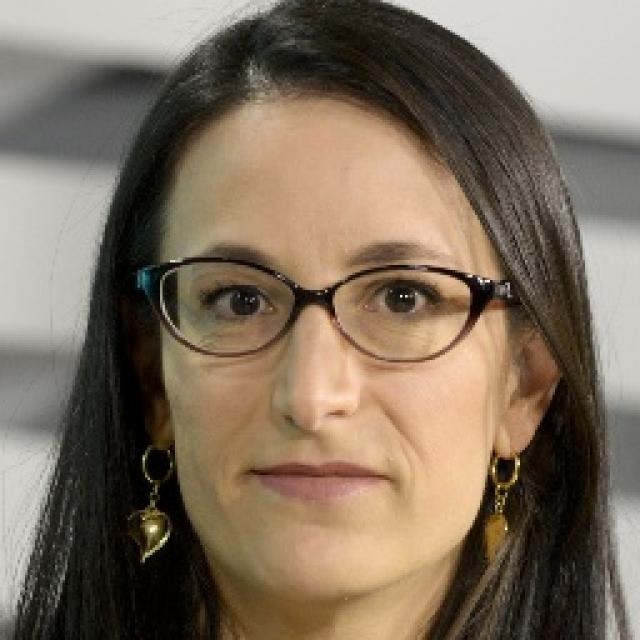earlobe: (496, 316, 564, 459), (130, 327, 172, 451)
